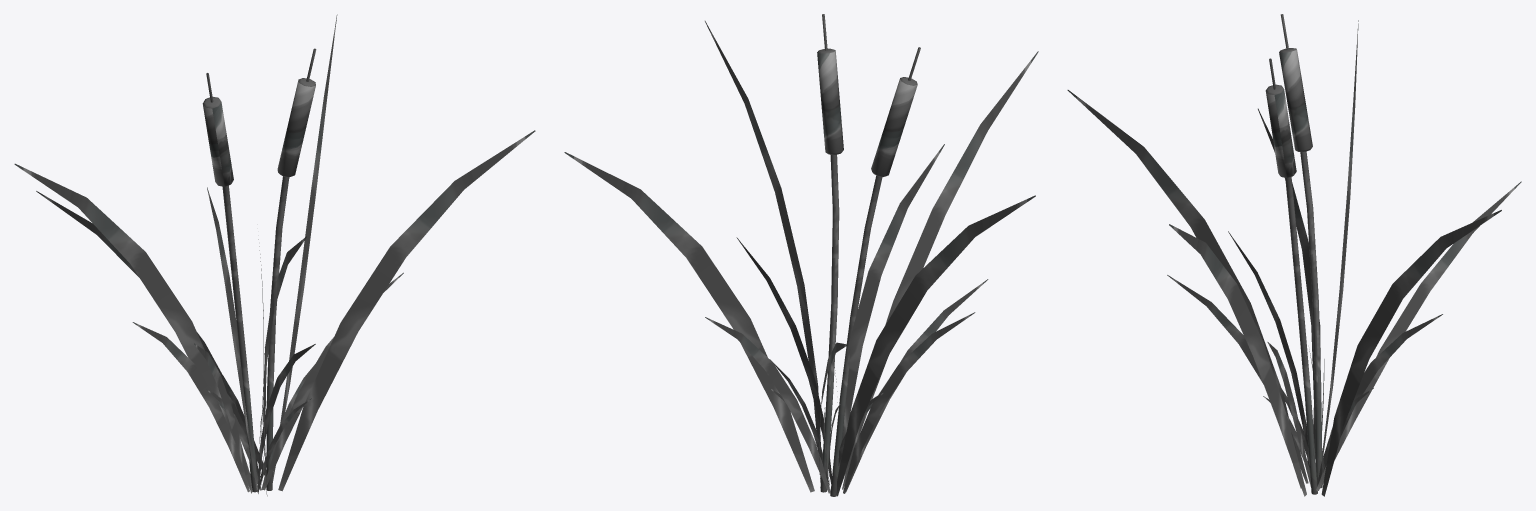
Rendered from LakePlant.fbx.
3 renders of one model, left to right at view 1: azimuth 30°, elevation 25°; view 2: azimuth 150°, elevation 25°; view 3: azimuth 270°, elevation 25°, orthographic. The views are drawn at different scales.
Parts seen in each view (by area): view 1: NurbsPath.001, NurbsPath.012, Cylinder.008, Cylinder.007, NurbsPath.002; view 2: NurbsPath.001, NurbsPath.012, Cylinder.007, Cylinder.008, NurbsPath.002; view 3: NurbsPath.001, Cylinder.008, Cylinder.007, NurbsPath.012, NurbsPath.002.
Boxes of the visible parts, x1,y1,x2,y2 form: NurbsPath.001: (14, 14, 535, 496); NurbsPath.012: (132, 239, 403, 493); Cylinder.008: (202, 73, 257, 492); Cylinder.007: (266, 48, 316, 490); NurbsPath.002: (206, 347, 314, 490); NurbsPath.001: (564, 21, 1038, 496); NurbsPath.012: (705, 237, 988, 493); Cylinder.007: (817, 14, 843, 492); Cylinder.008: (830, 47, 920, 496); NurbsPath.002: (769, 359, 885, 489); NurbsPath.001: (1067, 20, 1521, 496); Cylinder.008: (1279, 14, 1322, 488); Cylinder.007: (1265, 58, 1317, 494); NurbsPath.012: (1167, 231, 1442, 486); NurbsPath.002: (1263, 349, 1373, 486).
Bounding box in the file's own units: 1663 × 1688 × 1560.
